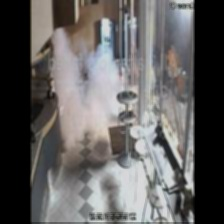smoke: (46, 25, 120, 142)
